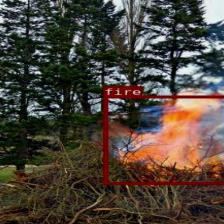fire: (102, 95, 224, 184)
